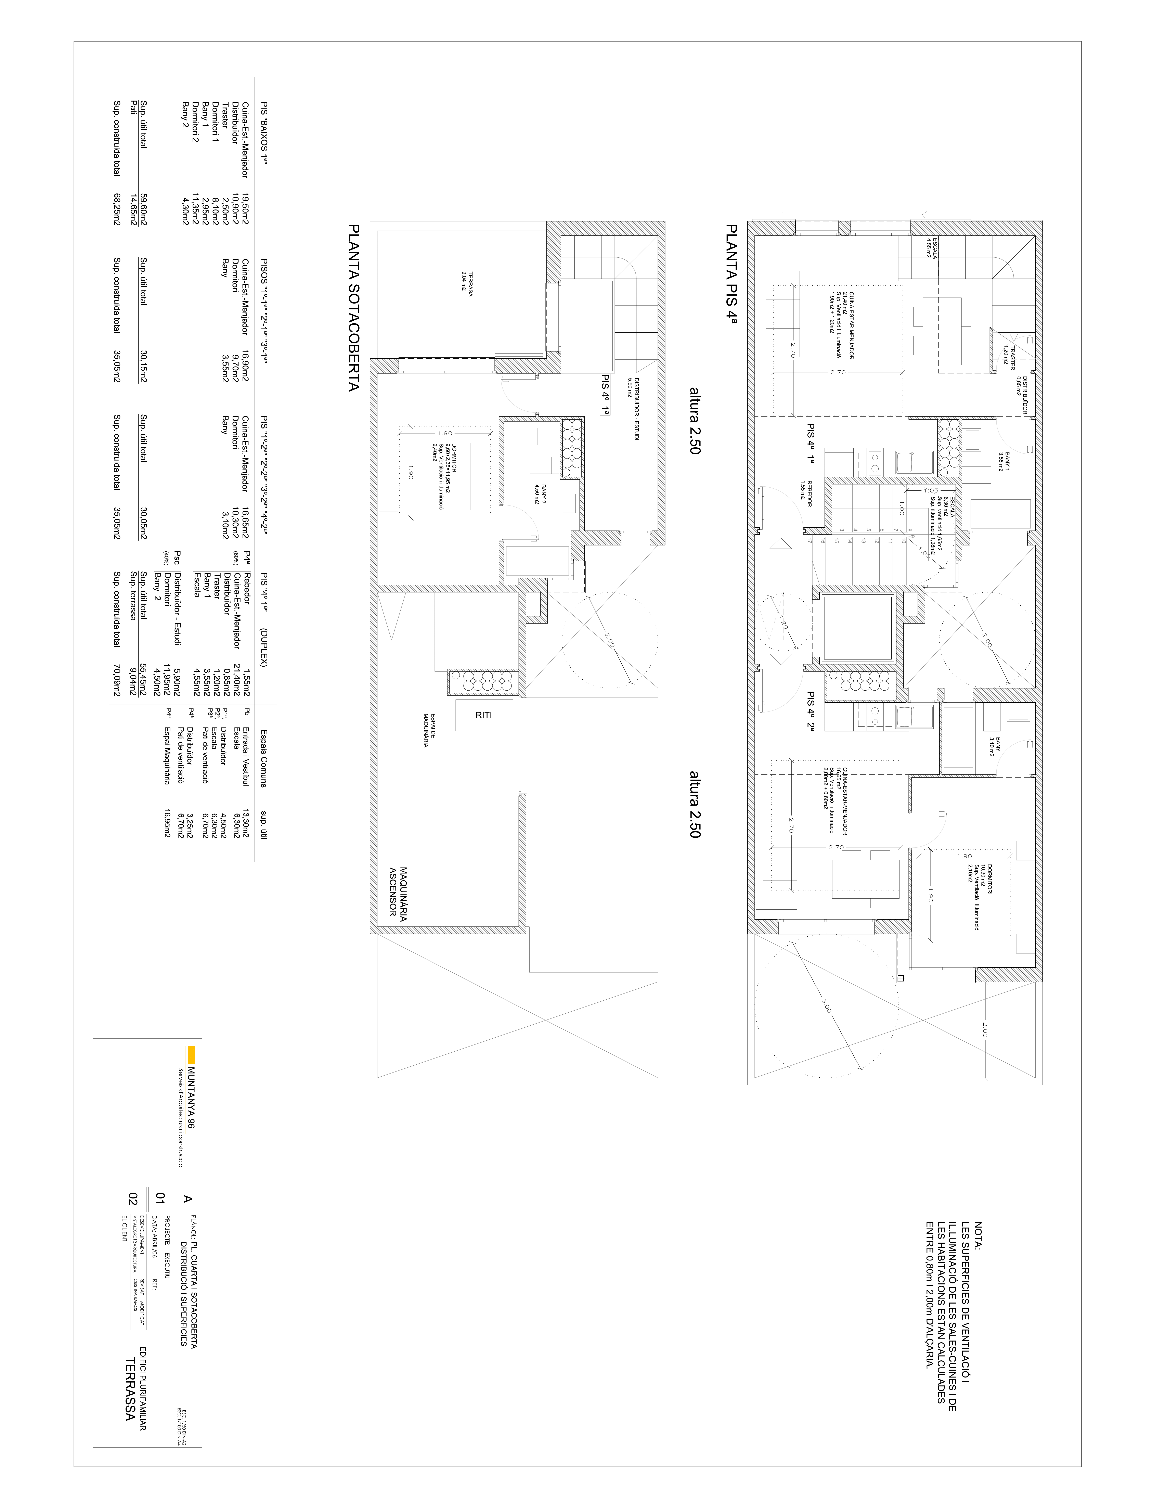door: (499, 503, 538, 542)
